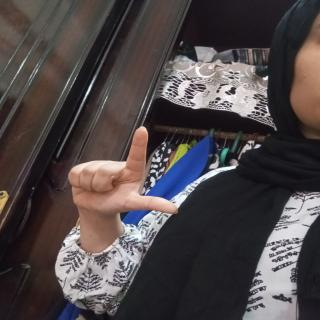LAAM: (59, 120, 183, 228)
